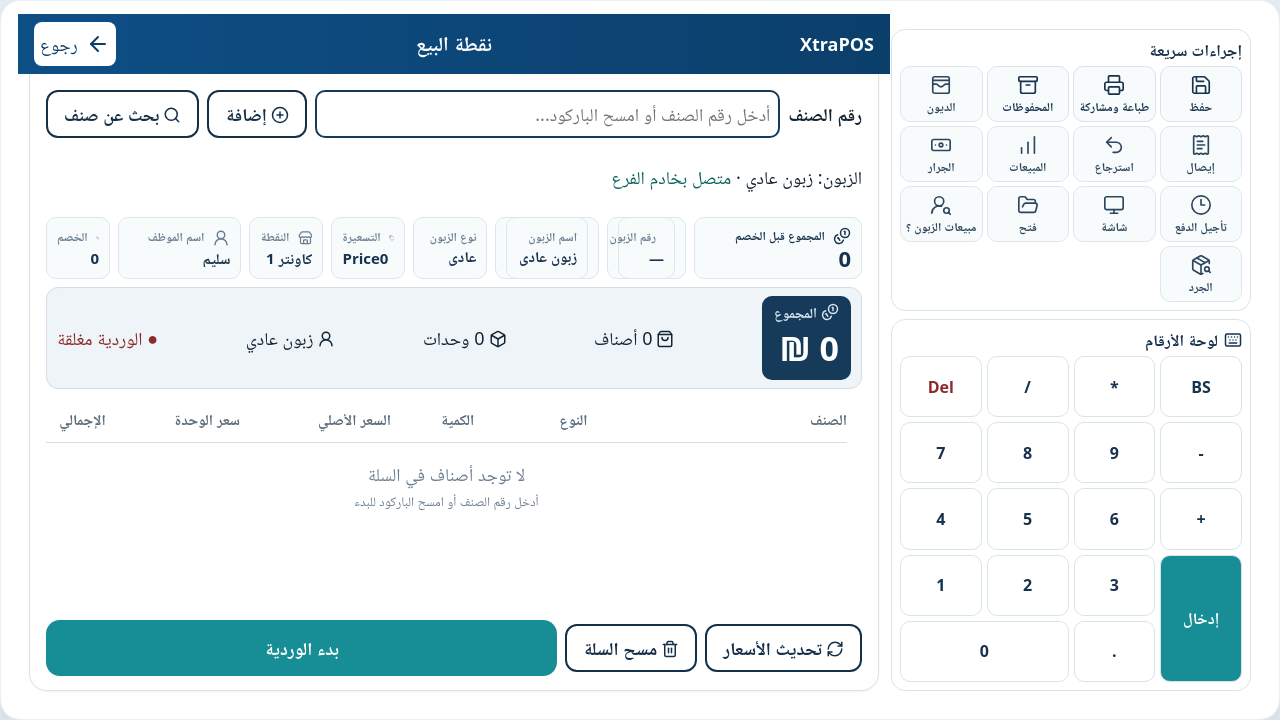
Test case: POS cashier screen › rejects a bad opening amount and keeps a single fast-entry input
The image size is (1280, 720).
Click the button "بدء الوردية" at (302, 648), box 46,620 -> 558,676
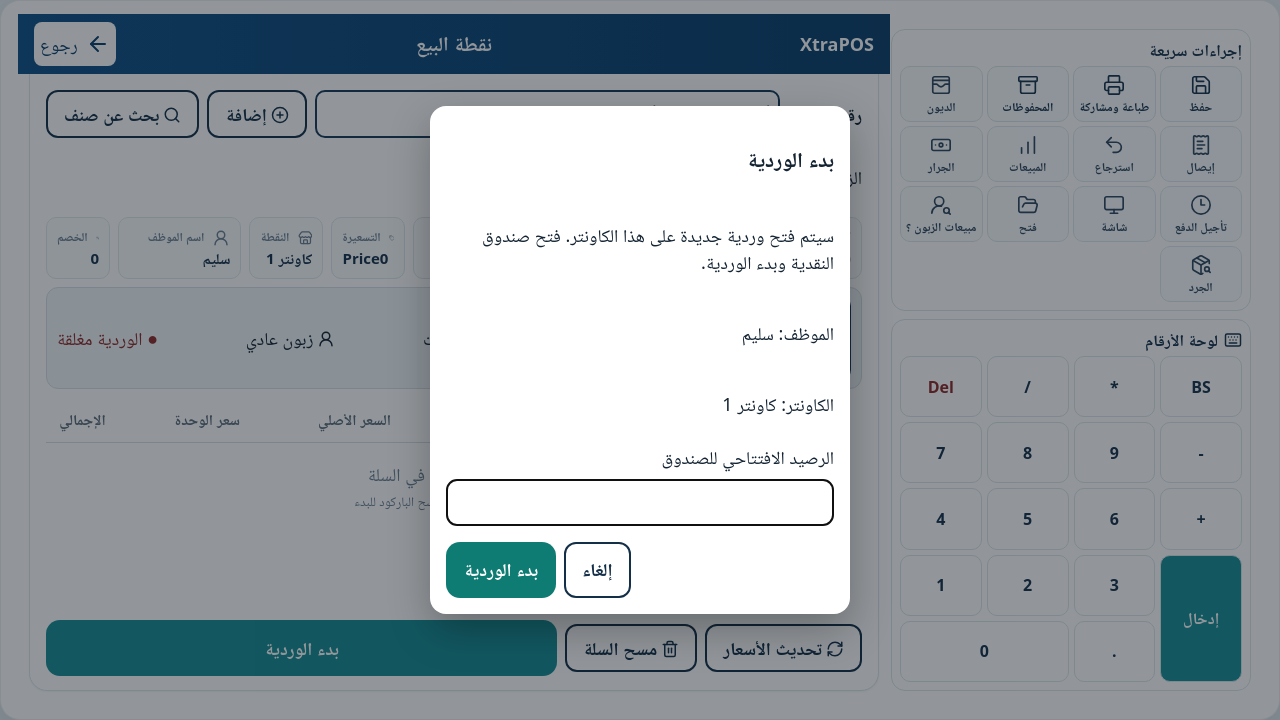
Type "-5" into the field labelled "الرصيد الافتتاحي للصندوق" at (640, 502), box 446,479 -> 834,526
Click the button "بدء الوردية" at (501, 570), box 446,542 -> 556,598
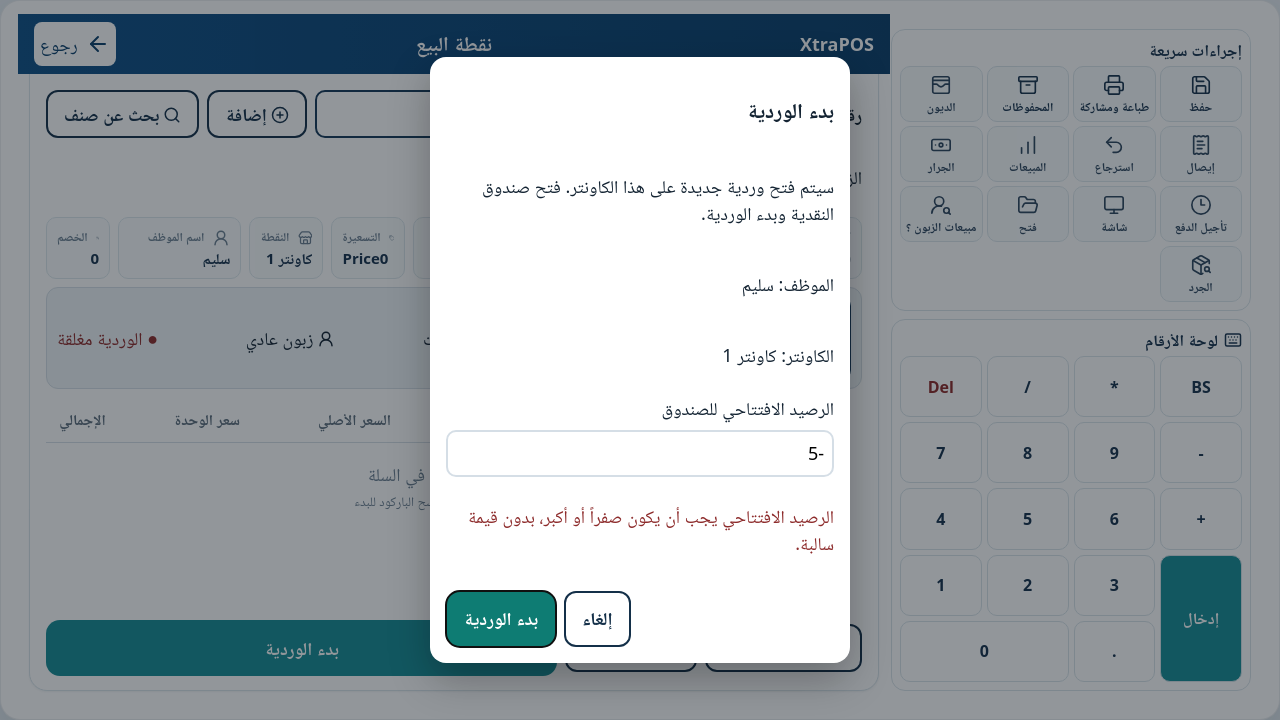
Check: the text "الرصيد الافتتاحي يجب أن يكون صفراً أو أكبر، بدون قيمة سالبة." is shown, box 446,503 -> 834,557
Replace the text in the field labelled "الرصيد الافتتاحي للصندوق" with "abc" at (640, 453), box 446,430 -> 834,477
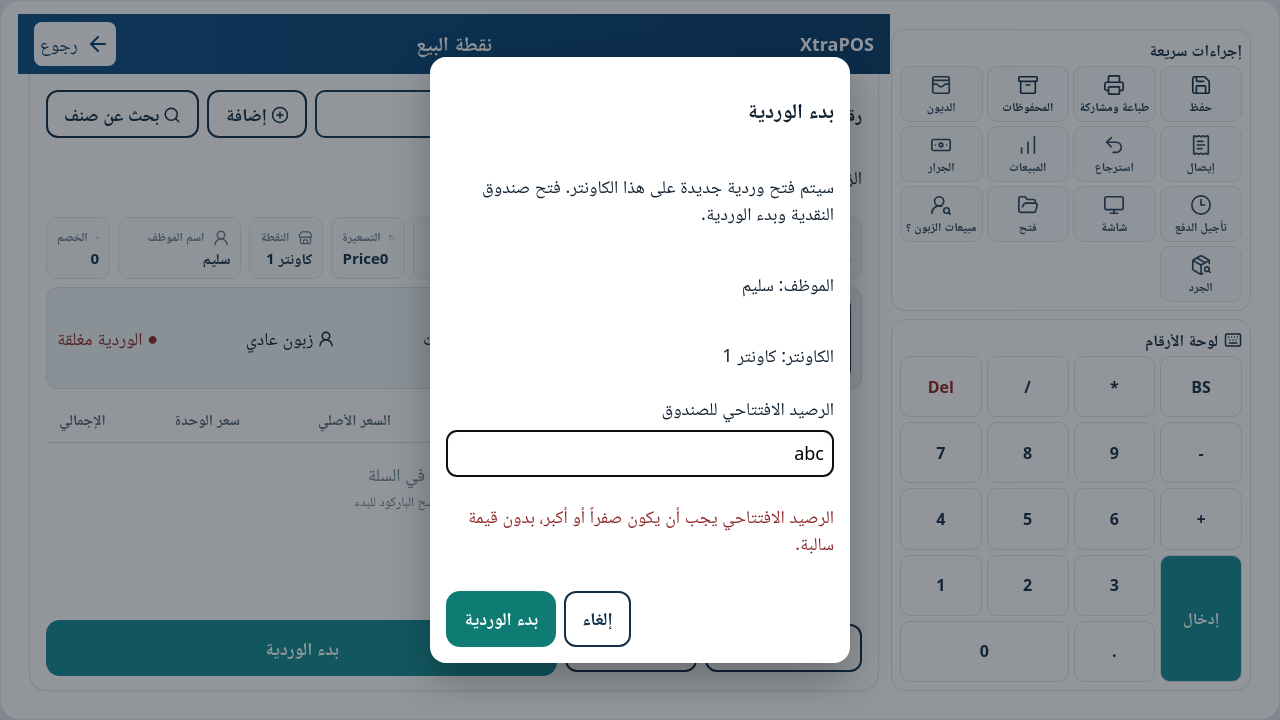
Click the button "بدء الوردية" at (501, 619), box 446,591 -> 556,647
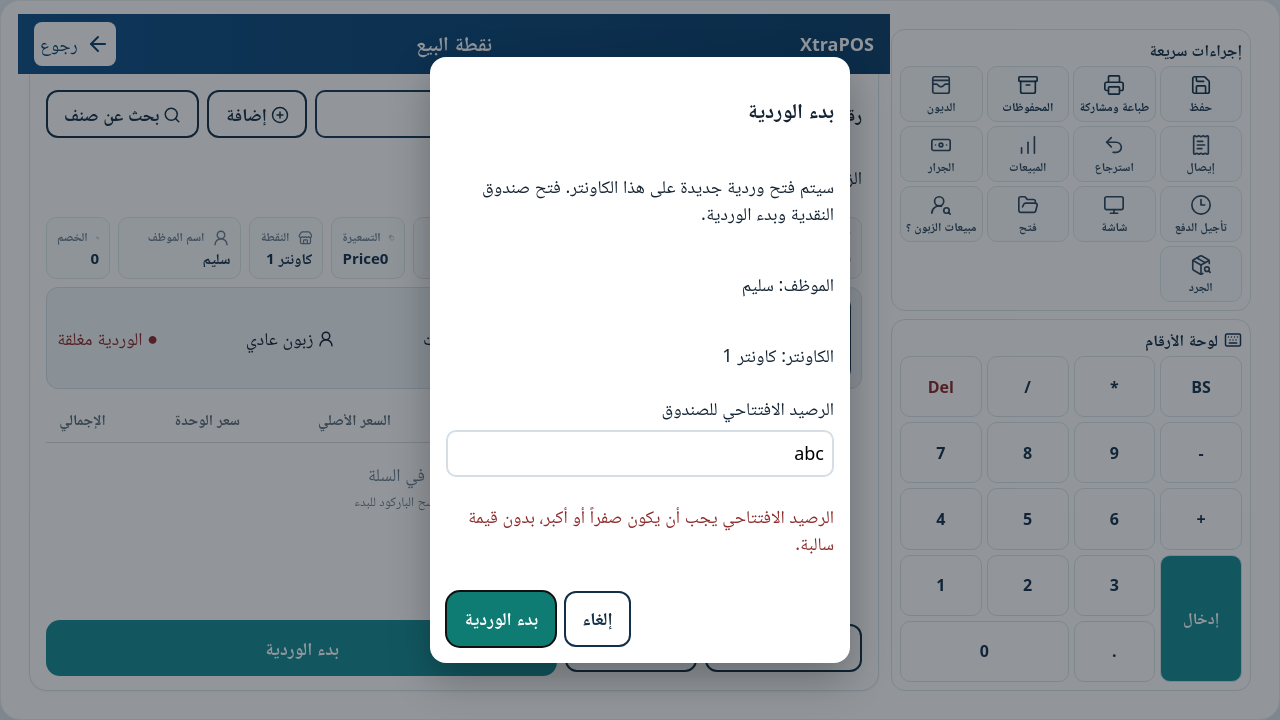
Check: the dialog "بدء الوردية" is shown, box 430,57 -> 850,663
Replace the text in the field labelled "الرصيد الافتتاحي للصندوق" with "0" at (640, 453), box 446,430 -> 834,477
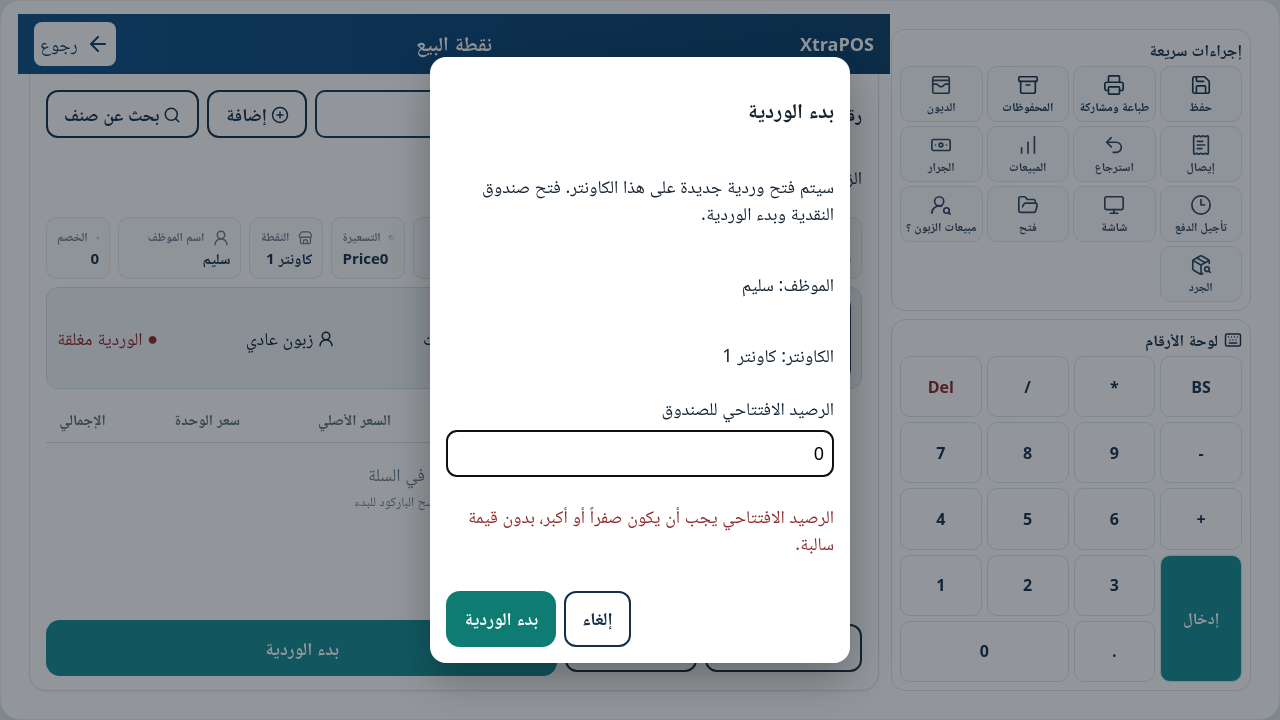
Click the button "بدء الوردية" at (501, 619), box 446,591 -> 556,647
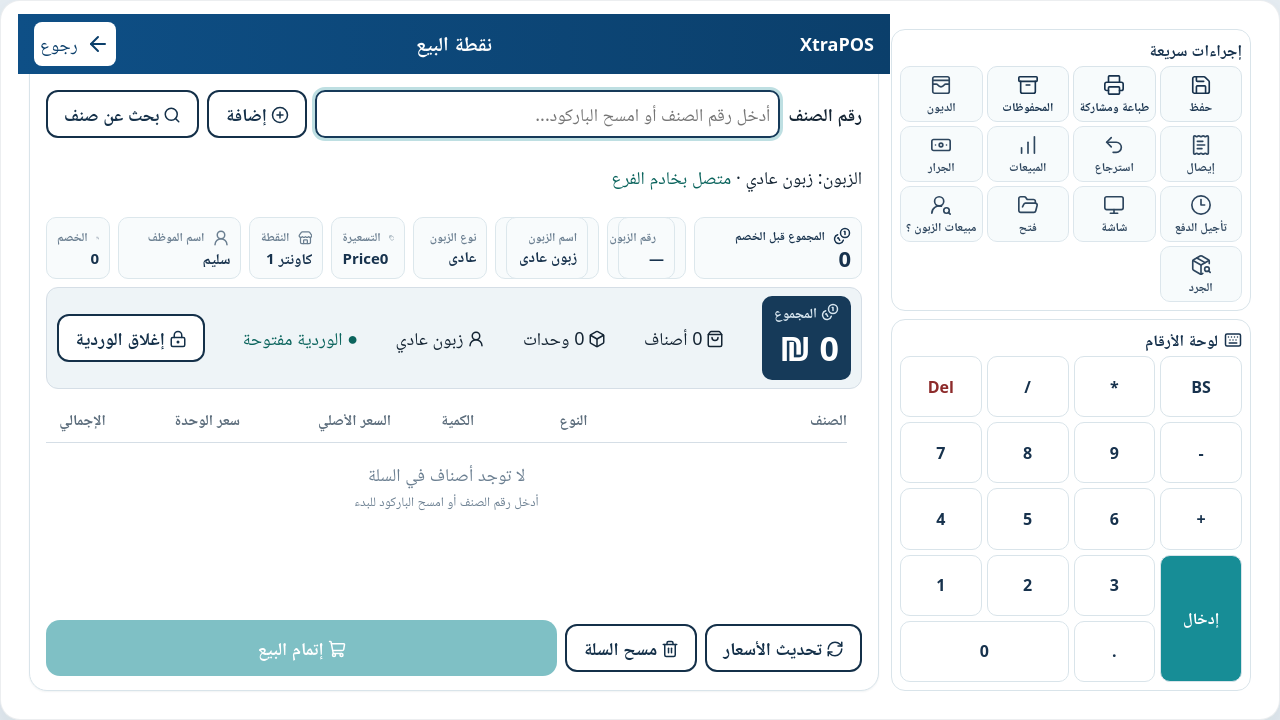
Check: the text "● الوردية مفتوحة" is shown, box 242,324 -> 358,352
